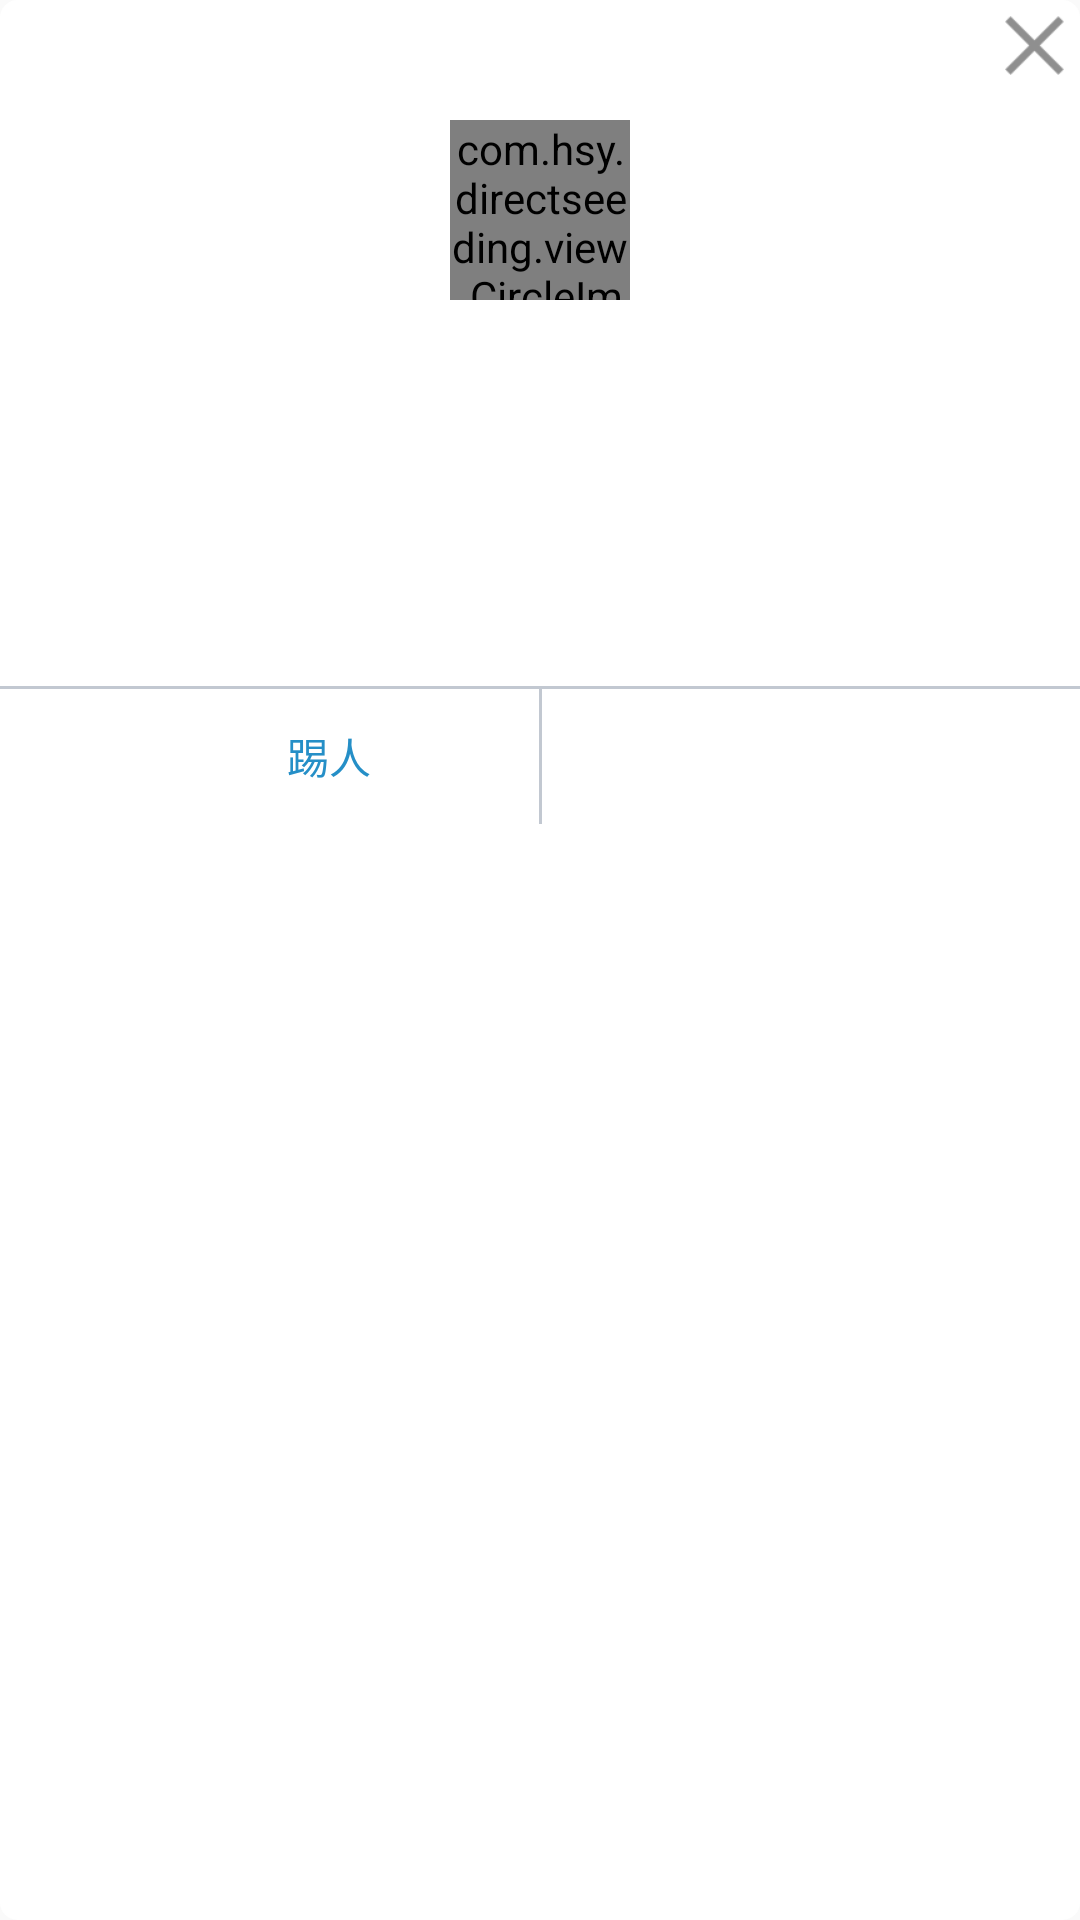

Where to tap for icons on this 1080 × 1920 app screen, as (x,y):
cancel: (1034,45)
